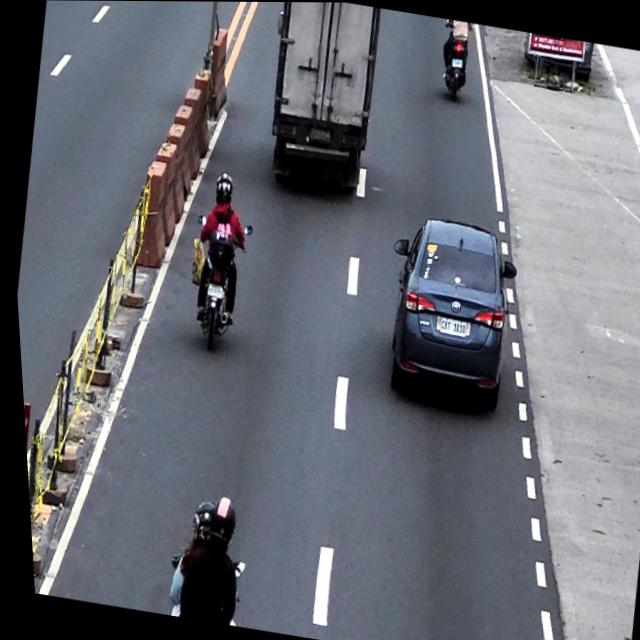Car: (365, 210, 528, 418)
License-Plate: (434, 315, 466, 339), (305, 125, 332, 144), (202, 283, 221, 301), (450, 56, 464, 68)
Motorcycle: (173, 211, 258, 358), (433, 19, 477, 103)
Truck: (251, 1, 392, 205)
